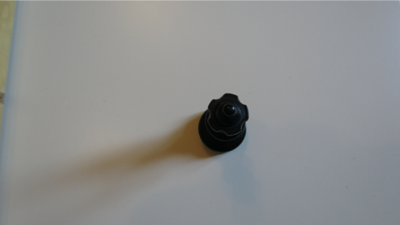black-queen: (198, 92, 251, 154)
